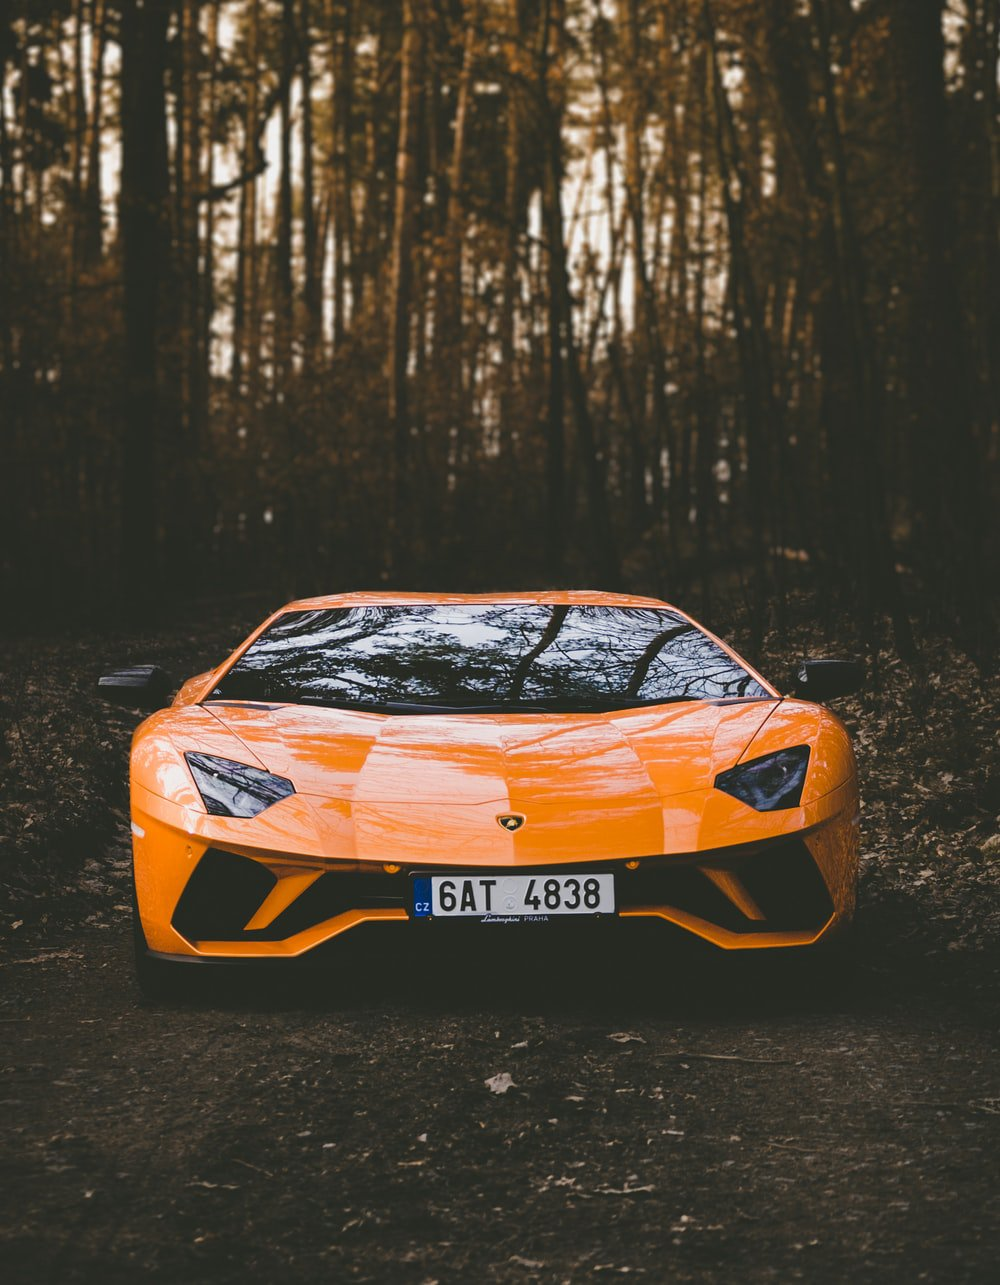car: (120, 581, 869, 991)
